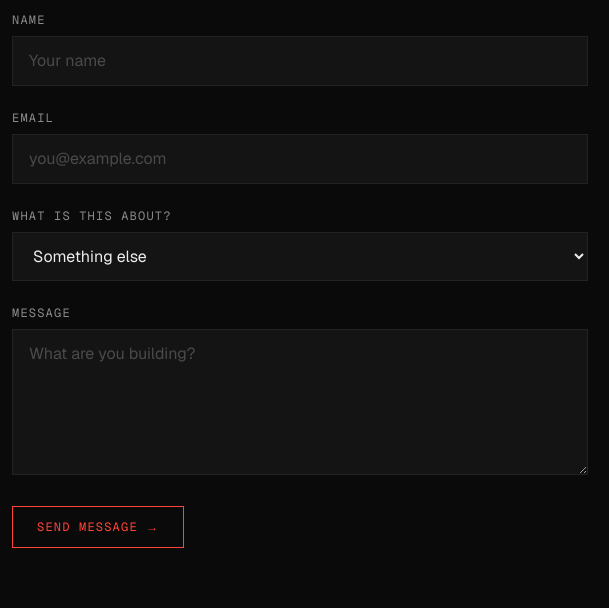
Test: ContactForm › shows the failure state on a network error (edge)
Type "Ada Lovelace" into the field labelled "Name".
click(300, 61); type("Ada Lovelace")  # box [12,36,588,86]
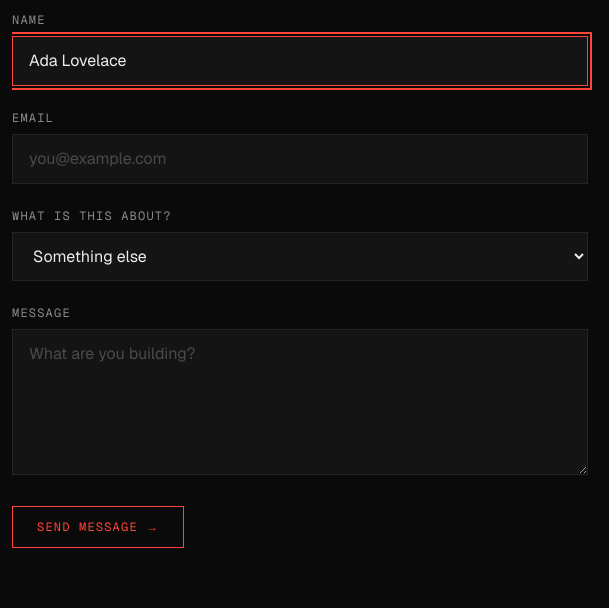
Type "ada@example.com" into the field labelled "Email".
click(300, 159); type("ada@example.com")  # box [12,134,588,184]
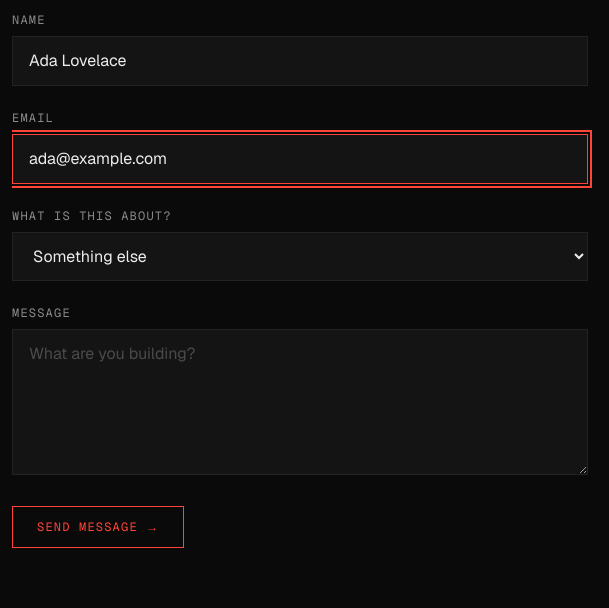
Type "Hello there." into the text box labelled "Message".
click(300, 402); type("Hello there.")  # box [12,329,588,475]
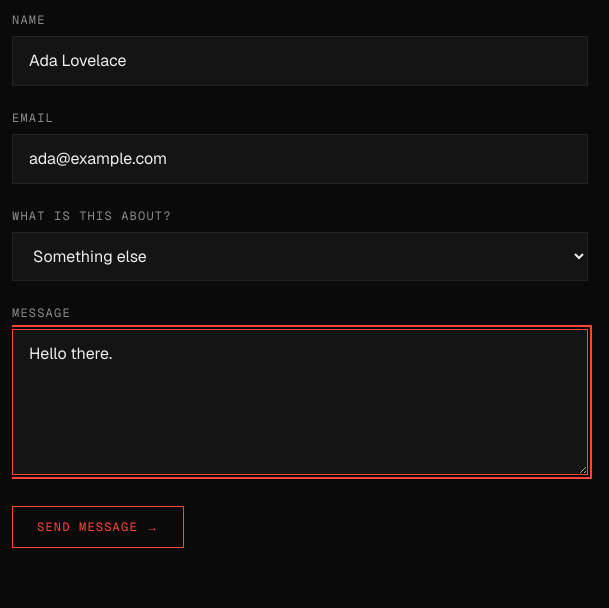
Click the button "Send message →".
click(98, 527)  # box [12,506,184,548]
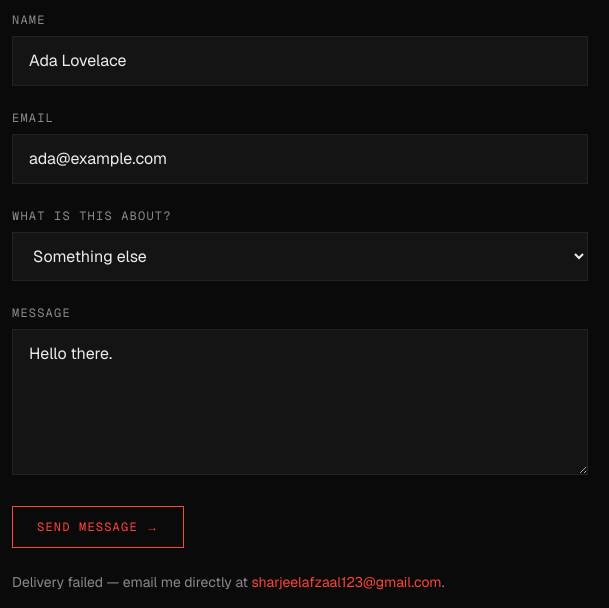
Now the text "Delivery failed" is shown, box [12,573,248,591]
